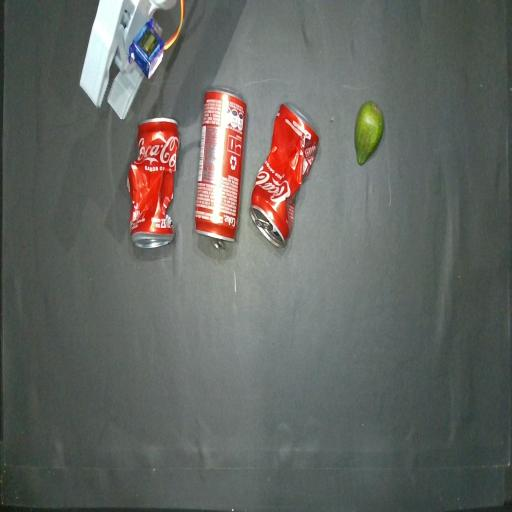higo: (354, 101, 383, 165)
lata: (195, 88, 247, 248)
lata_defectuoso: (250, 103, 319, 247), (127, 118, 179, 248)
